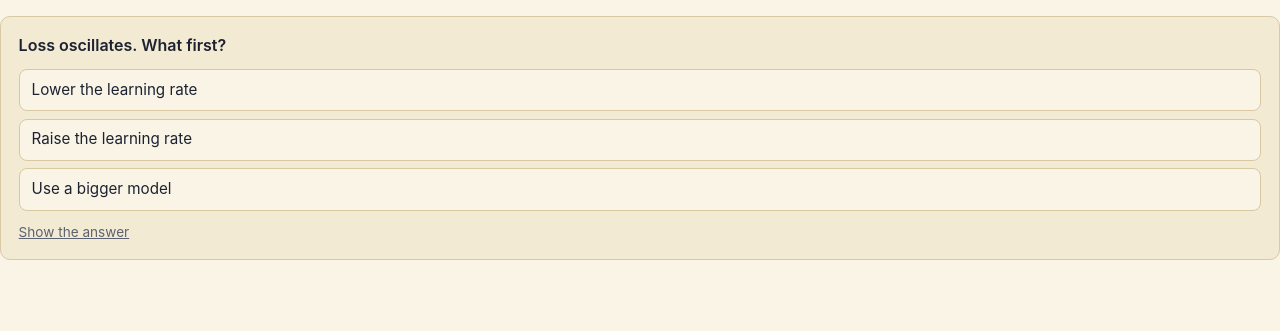
Test: Choice › hides the worked answer until the right option is picked, and explains a wrong pick
Expected: the text "Worked answer here" is not shown
Click the radio button labelled "Raise the learning rate" at [112, 139], box [19, 119, 1261, 161]
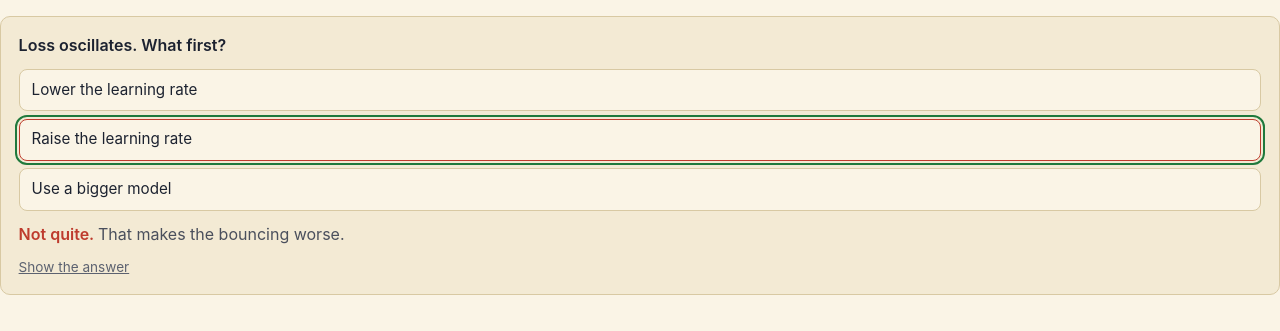
Expected: the text "Worked answer here" is not shown
Now the message reads "Not quite. That makes the bouncing worse.", box [19, 224, 344, 244]
Click the radio button labelled "Lower the learning rate" at [114, 89], box [19, 69, 1261, 111]
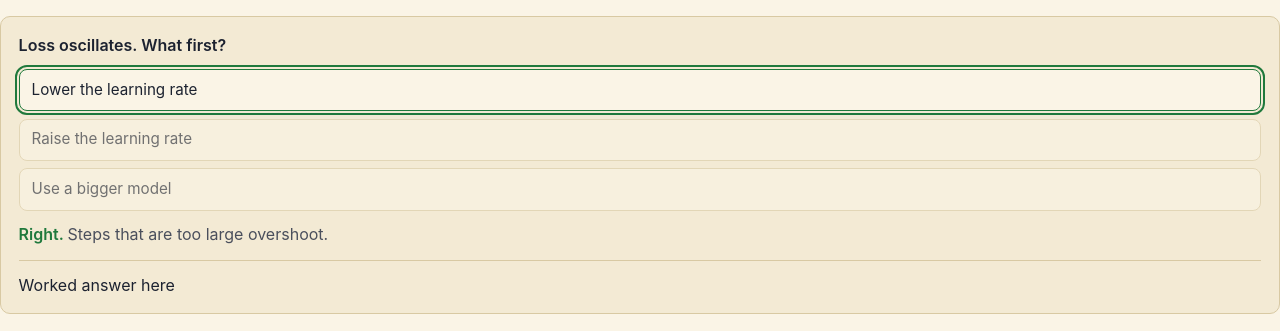
Now the message shows "Right.", box [19, 224, 68, 244]
Now the text "Worked answer here" is shown, box [19, 260, 1261, 297]
